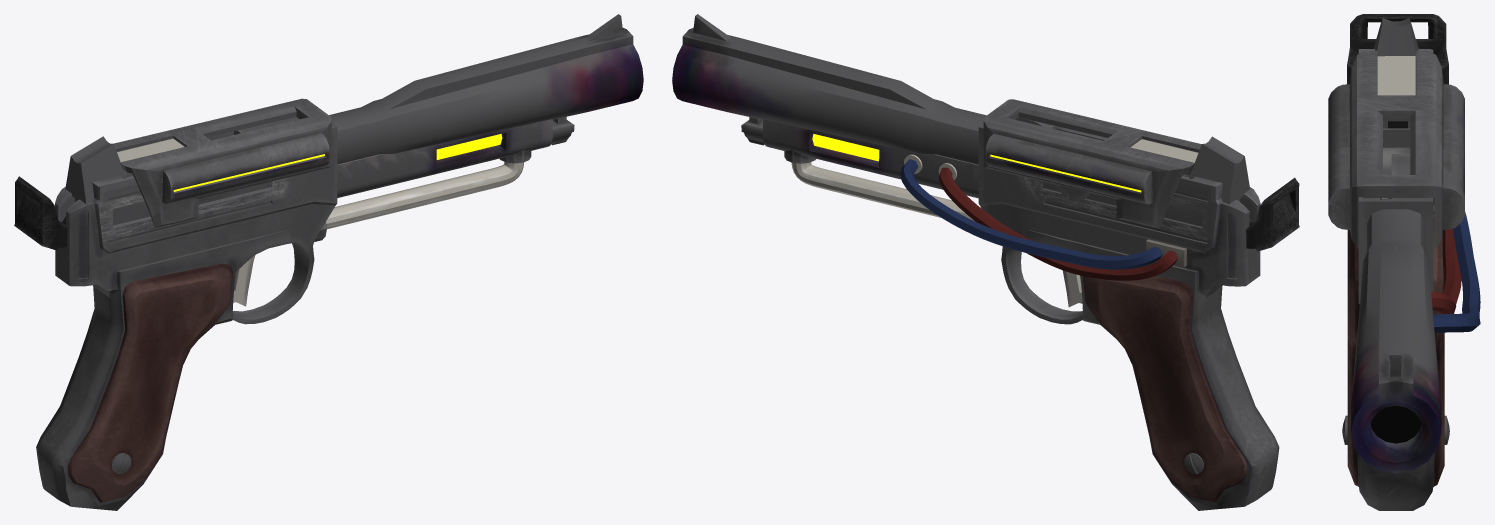
File: wm_sf_temperedtapper.fbx
3 views of the same model, side by side, from view 1: azimuth 30°, elevation 25°; view 2: azimuth 150°, elevation 25°; view 3: azimuth 270°, elevation 25° (orthographic). The views are drawn at different scales.
Visible parts, largest first — view 1: Tempered Tapper_LOD0; view 2: Tempered Tapper_LOD0; view 3: Tempered Tapper_LOD0.
Part boxes in pixels (<box>): Tempered Tapper_LOD0: <box>14,14,643,510</box>; Tempered Tapper_LOD0: <box>672,14,1299,510</box>; Tempered Tapper_LOD0: <box>1328,14,1480,510</box>.
Size of what is drawn, in the model's own units: 174 by 102 by 28.86.
